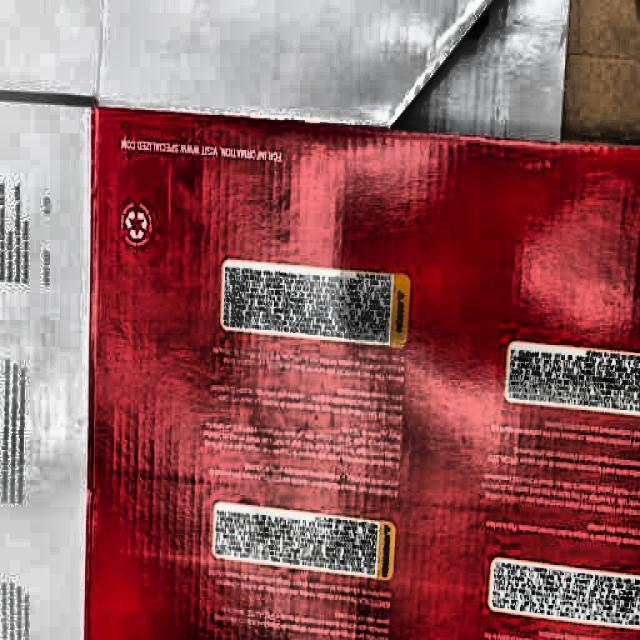cardboard: (81, 100, 639, 638)
